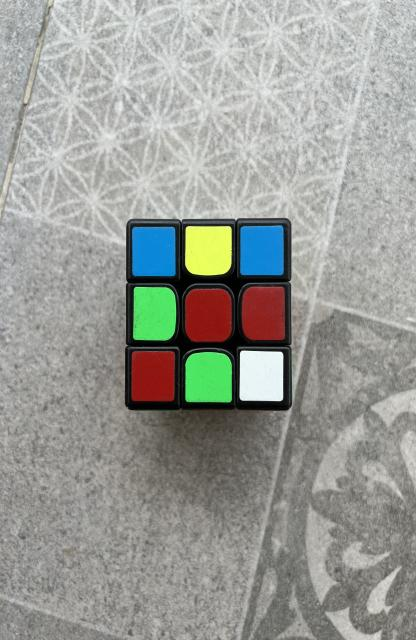Blue: (132, 226, 176, 276), (240, 225, 284, 275)
Green: (133, 286, 177, 341), (185, 352, 232, 402)
Red: (185, 289, 232, 342), (242, 286, 285, 340), (131, 351, 174, 401)
White: (239, 350, 284, 401)
Yellow: (185, 226, 232, 275)
